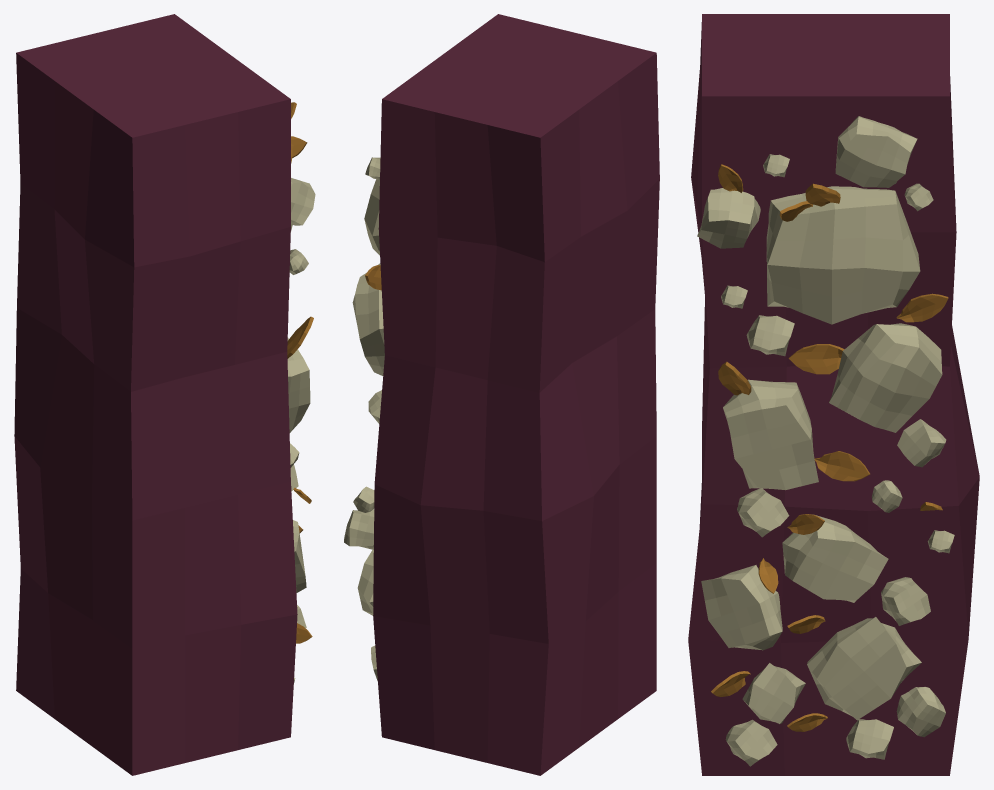
File: muroRoca.fbx
3 renders of one model, left to right at view 1: azimuth 30°, elevation 25°; view 2: azimuth 150°, elevation 25°; view 3: azimuth 270°, elevation 25°, orthographic. The views are drawn at different scales.
Parts seen in each view (by area): view 1: Cube, Cube.005, Cube.012, Cube.011; view 2: Cube, Cube.004, Cube.013, Cube.003, Cube.008; view 3: Cube, Cube.003, Cube.004, Cube.005, Cube.008, Cube.009, Cube.011, Cube.018, Cube.012, Cube.010, Cube.016, Cube.013 (+14 smaller).
Boxes of the visible parts, x1=… form: Cube: x1=14, y1=14, x2=297, y2=775; Cube.005: x1=287, y1=337, x2=310, y2=432; Cube.012: x1=291, y1=178, x2=315, y2=225; Cube.011: x1=293, y1=520, x2=306, y2=593; Cube: x1=373, y1=14, x2=659, y2=775; Cube.004: x1=352, y1=263, x2=384, y2=375; Cube.013: x1=344, y1=509, x2=374, y2=549; Cube.003: x1=364, y1=179, x2=379, y2=255; Cube.008: x1=357, y1=550, x2=373, y2=615; Cube: x1=688, y1=14, x2=979, y2=775; Cube.003: x1=766, y1=186, x2=920, y2=324; Cube.004: x1=829, y1=323, x2=942, y2=432; Cube.005: x1=723, y1=379, x2=818, y2=490; Cube.008: x1=807, y1=617, x2=921, y2=720; Cube.009: x1=782, y1=514, x2=888, y2=602; Cube.011: x1=701, y1=565, x2=782, y2=650; Cube.018: x1=835, y1=116, x2=917, y2=187; Cube.012: x1=697, y1=188, x2=760, y2=248; Cube.010: x1=742, y1=663, x2=805, y2=723; Cube.016: x1=896, y1=687, x2=945, y2=737; Cube.013: x1=881, y1=577, x2=930, y2=625.
Size of the model in its own units: 350 by 921 by 358.
